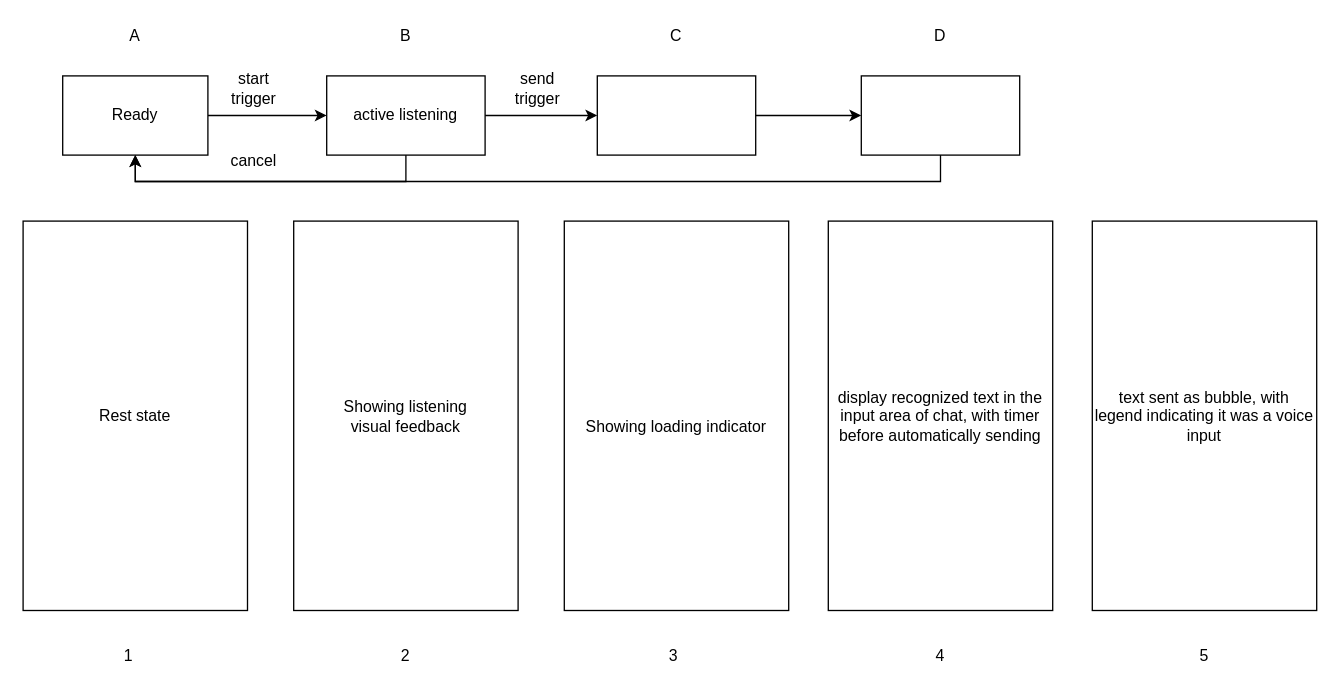
This 1340x692 diagram has some shape labels left out. The shapes that lost their labels are listed below. From the top down, each one's centre as x and y in pixels, then its label:
(676,115): send to server to process
(940,115): result
